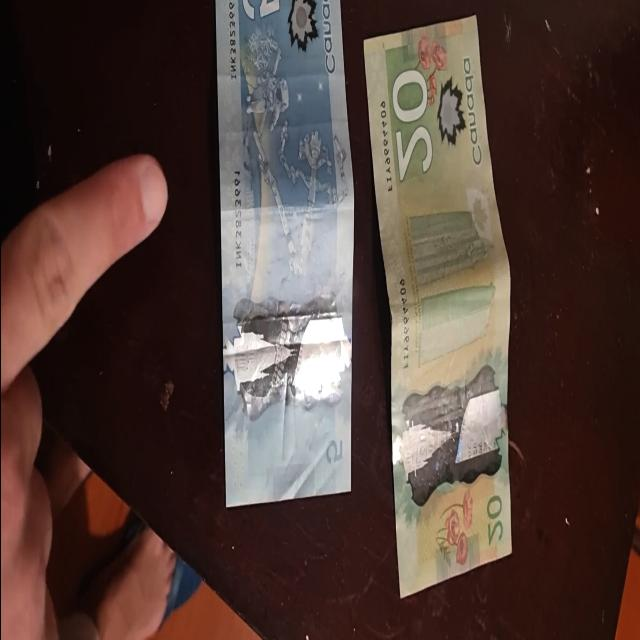20 cad: (368, 29, 514, 556)
5 cad: (220, 0, 354, 487)
